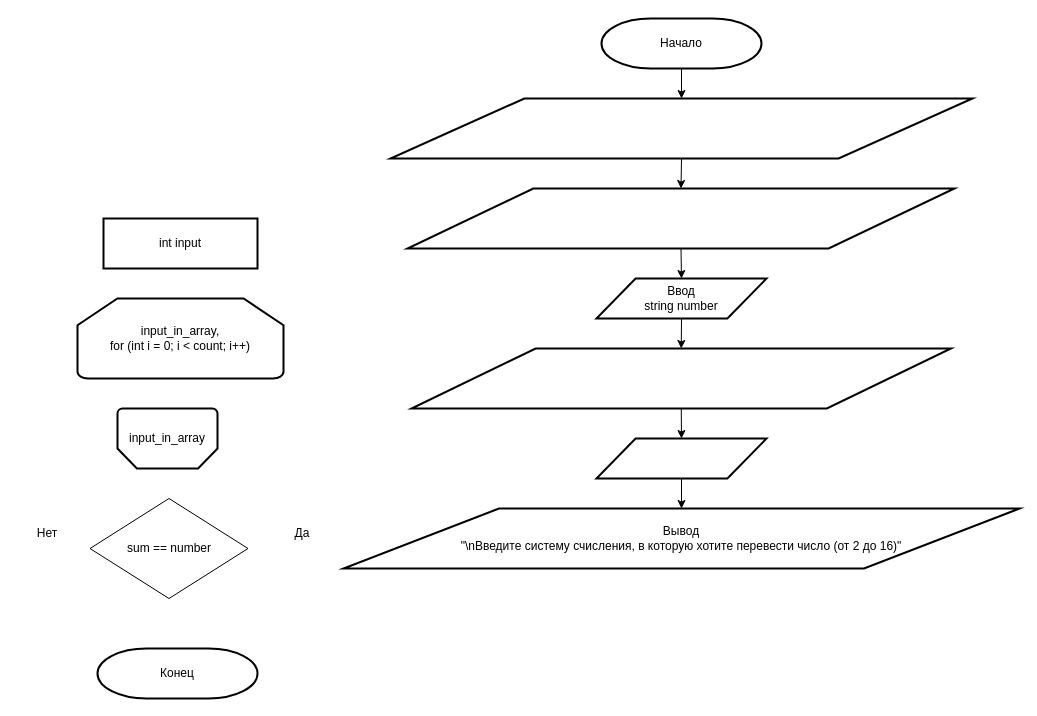
Image size: 1037x716. Some labels were removed from this diagram. Here are the shapes that lost their labels. From the top down, the centre of each, then its label:
point (681, 128): Вывод "ПЕРЕВОД ЧИСЛА ИЗ ОДНОЙ СИСТЕМЫ СЧИСЛЕНИЯ В ДРУГУЮ"
point (680, 218): Вывод "\nВведите число, над которым будет проводиться операция"
point (681, 378): Вывод "\nВведите систему счисления этого числа (от 2 до 16)"
point (681, 458): Ввод int system_1
